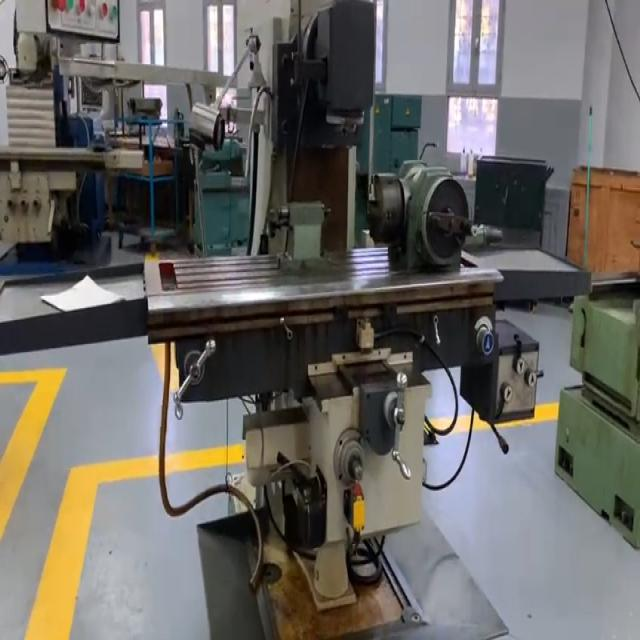fraiseuse: (143, 0, 540, 640)
